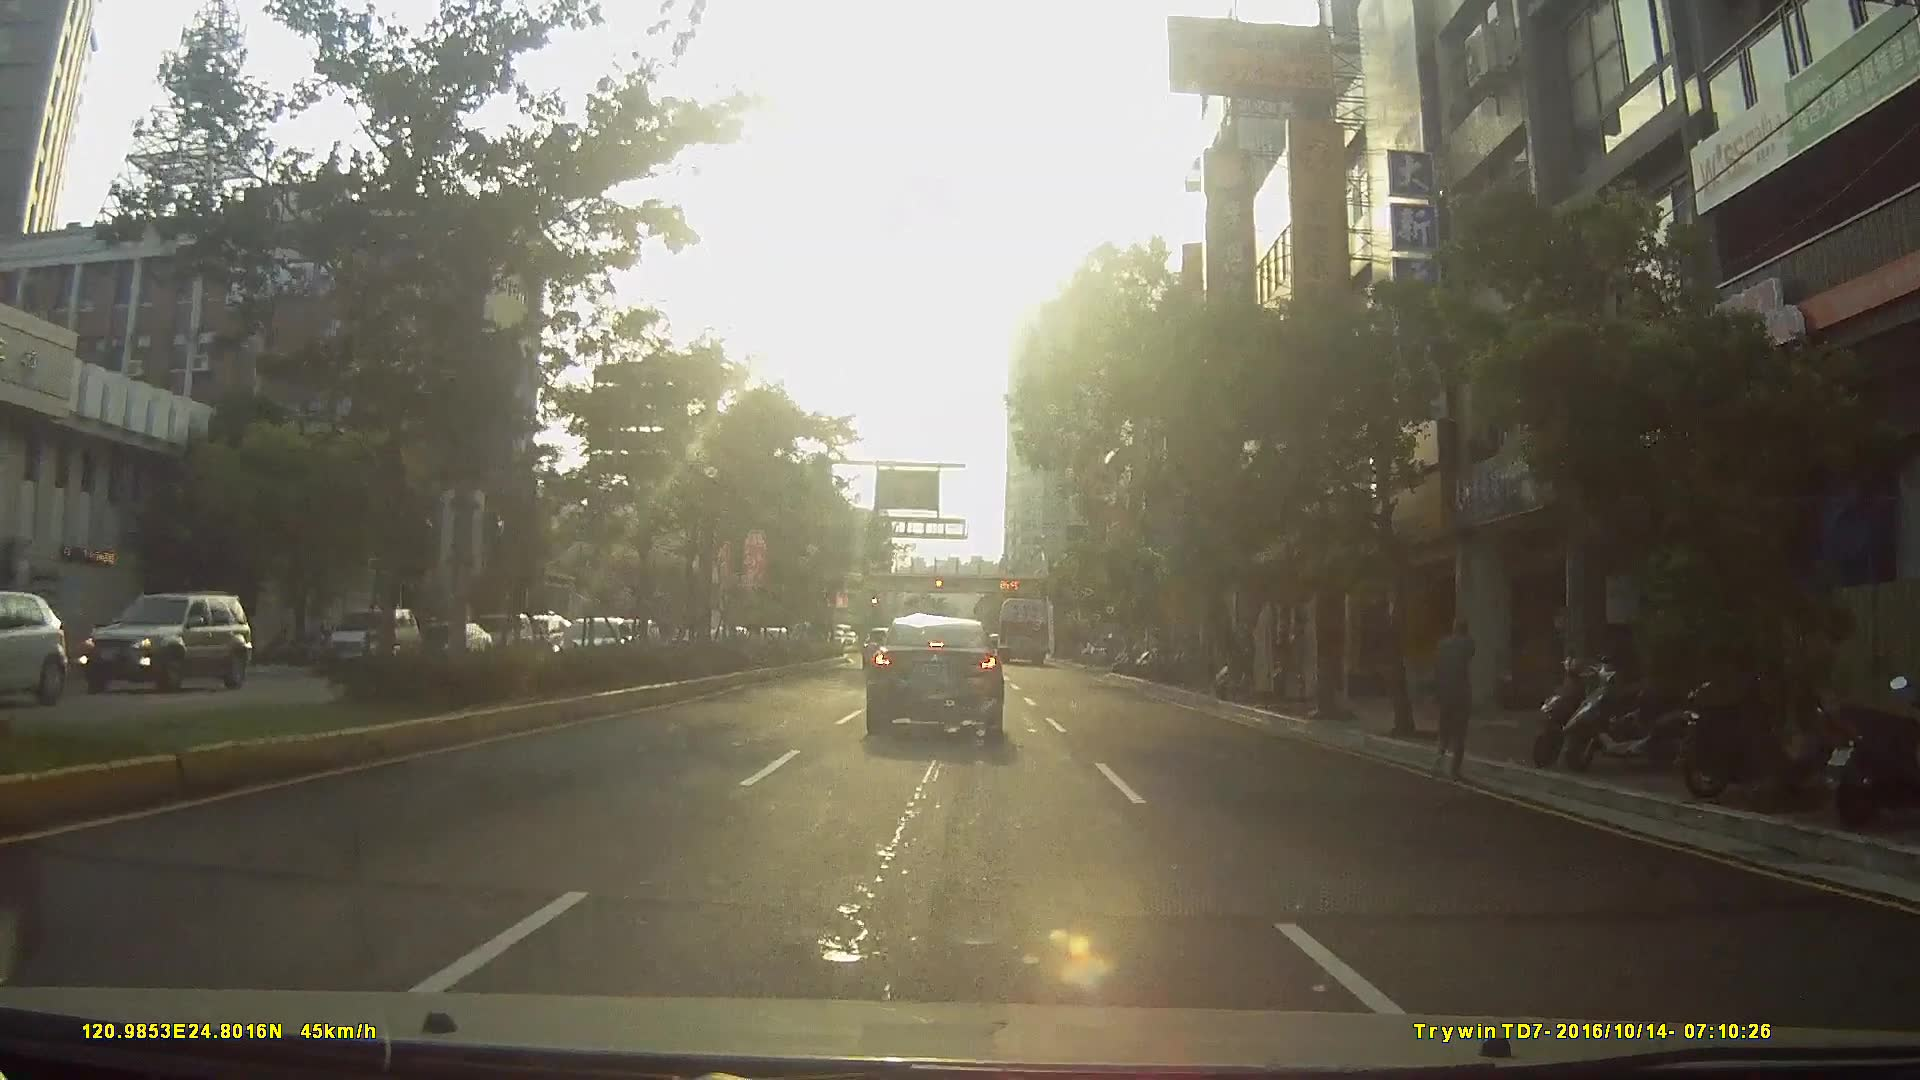pedestrian: (1423, 616, 1483, 775)
vehicle: (69, 591, 256, 705), (863, 611, 1004, 732), (1, 588, 81, 707), (318, 601, 418, 665), (995, 594, 1050, 661)
